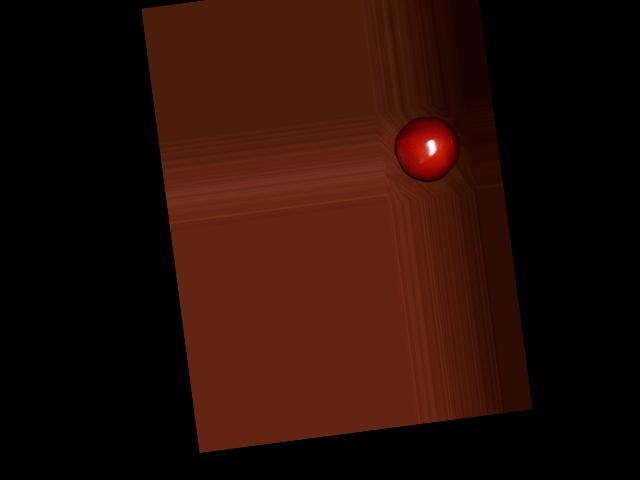tomato: (391, 111, 463, 184)
